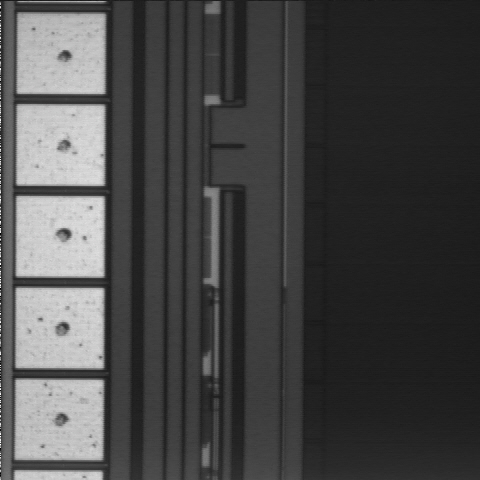pad: (17, 105, 104, 186), (17, 196, 104, 277), (16, 288, 104, 368), (15, 380, 103, 460), (18, 14, 104, 94)
